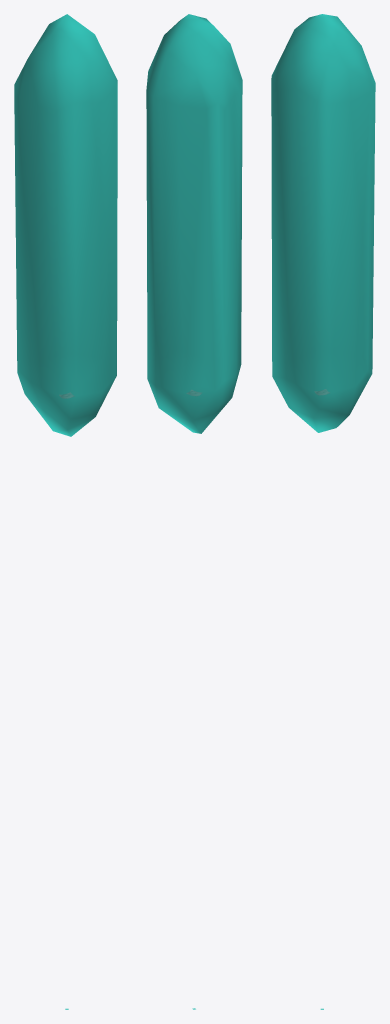
The picture shows the model from 3 angles, left to right: view 1: azimuth 90°, elevation 25°; view 2: azimuth 210°, elevation 25°; view 3: azimuth 270°, elevation 25°; orthographic projection.
Visible parts, largest first — view 1: Liquid_Domain; view 2: Liquid_Domain; view 3: Liquid_Domain.
Boxes of the visible parts, x1,y1,x2,y2 form: Liquid_Domain: (14, 14, 117, 436); Liquid_Domain: (146, 14, 242, 433); Liquid_Domain: (271, 14, 375, 432).
Bounding box in the file's own units: 57.1 × 608 × 57.55.
